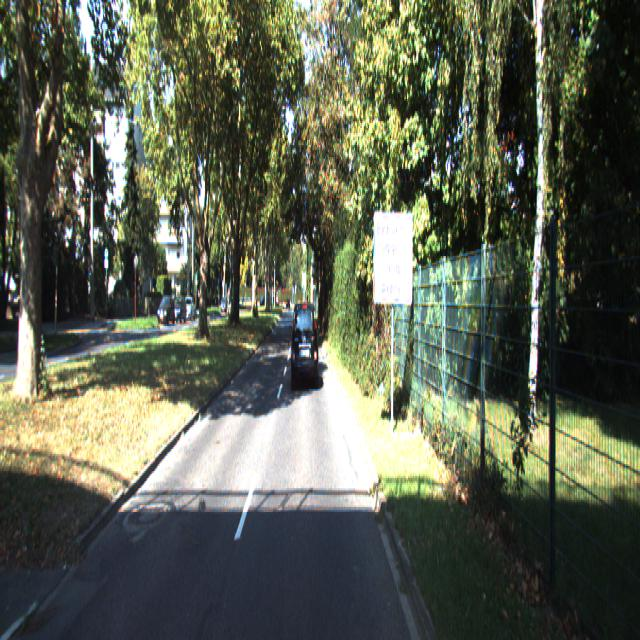Car: (290, 298, 319, 388)
